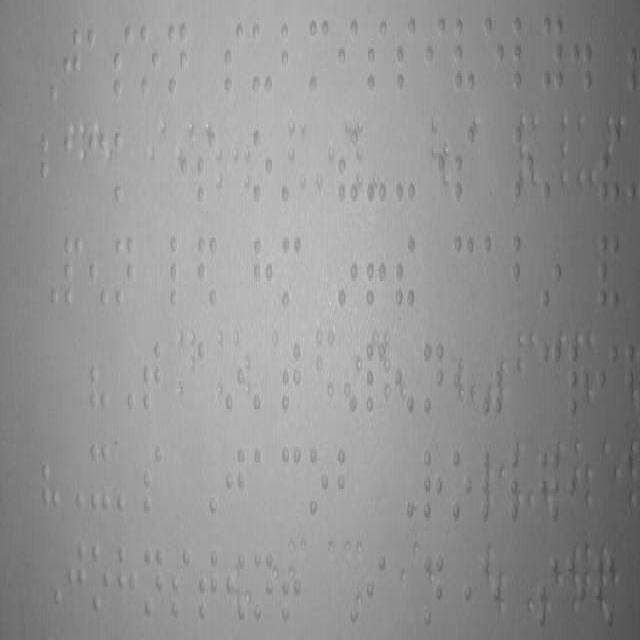braiile: (420, 442, 448, 527), (538, 338, 564, 427), (595, 338, 621, 426), (168, 544, 196, 624), (450, 442, 476, 527), (88, 538, 114, 622), (480, 227, 504, 316), (511, 227, 535, 316), (60, 26, 86, 108), (279, 230, 305, 312), (141, 541, 167, 623), (395, 10, 419, 97), (115, 542, 141, 622), (337, 15, 361, 101), (86, 22, 110, 107), (364, 340, 388, 424), (110, 21, 134, 103), (307, 17, 331, 99), (482, 12, 506, 94), (112, 230, 136, 312), (336, 439, 360, 521), (424, 13, 448, 94), (453, 13, 477, 94), (542, 13, 566, 94), (66, 536, 88, 624), (250, 20, 274, 100), (280, 20, 304, 100), (365, 18, 389, 98), (194, 129, 218, 209), (452, 124, 476, 204), (452, 234, 476, 314), (422, 340, 446, 420), (140, 338, 164, 418), (87, 440, 111, 520), (252, 440, 276, 520), (279, 440, 303, 520), (365, 546, 389, 626), (252, 544, 276, 624), (511, 8, 533, 94), (197, 544, 220, 624), (113, 128, 137, 204), (138, 18, 160, 98), (39, 129, 61, 209), (252, 124, 274, 204), (62, 234, 84, 314), (167, 231, 189, 311), (252, 234, 274, 314), (280, 338, 302, 418), (196, 340, 218, 420), (308, 442, 330, 522), (224, 441, 246, 519), (223, 22, 245, 98), (141, 442, 163, 518), (168, 20, 188, 100), (88, 129, 108, 209), (61, 130, 80, 208)
